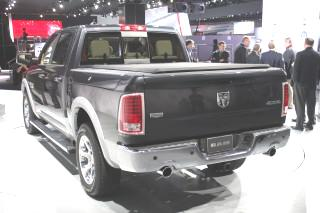ram: (211, 88, 235, 112)
